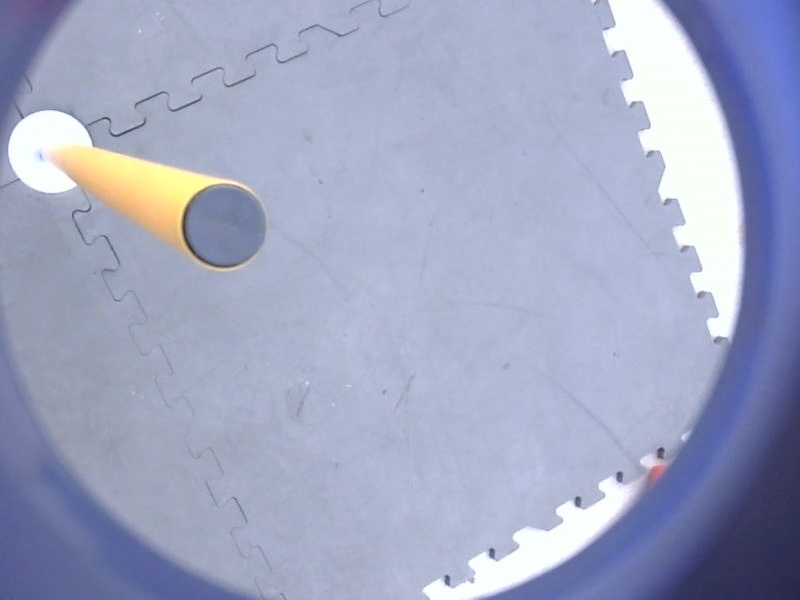tip: (175, 175, 273, 275)
